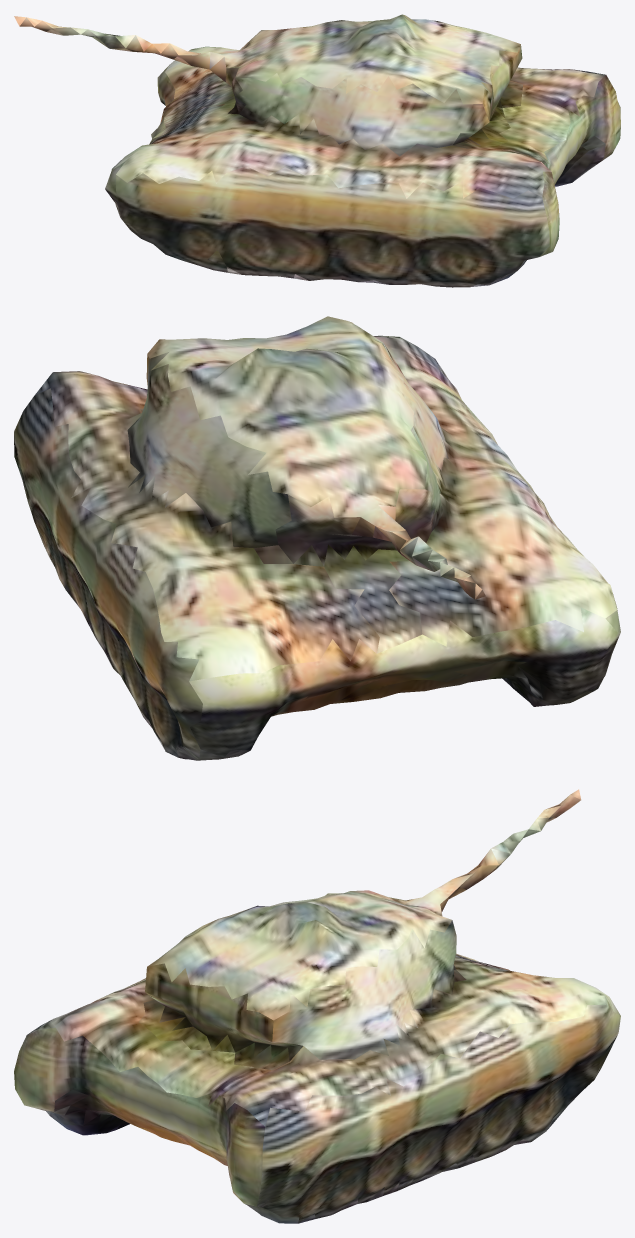
Rendered from TANK_00001_.glb.
3 views of the same model, one above another, from view 1: azimuth 30°, elevation 25°; view 2: azimuth 150°, elevation 25°; view 3: azimuth 270°, elevation 25° (orthographic). The views are drawn at different scales.
Parts seen in each view (by area): view 1: world; view 2: world; view 3: world.
Boxes of the visible parts, x1,y1,x2,y2 form: world: (14,14,620,287); world: (14,316,620,760); world: (14,789,620,1223).
Size of the model in its own units: 0.8624 by 0.3695 by 0.8449.
Materials: 1 (1 with a texture image).
